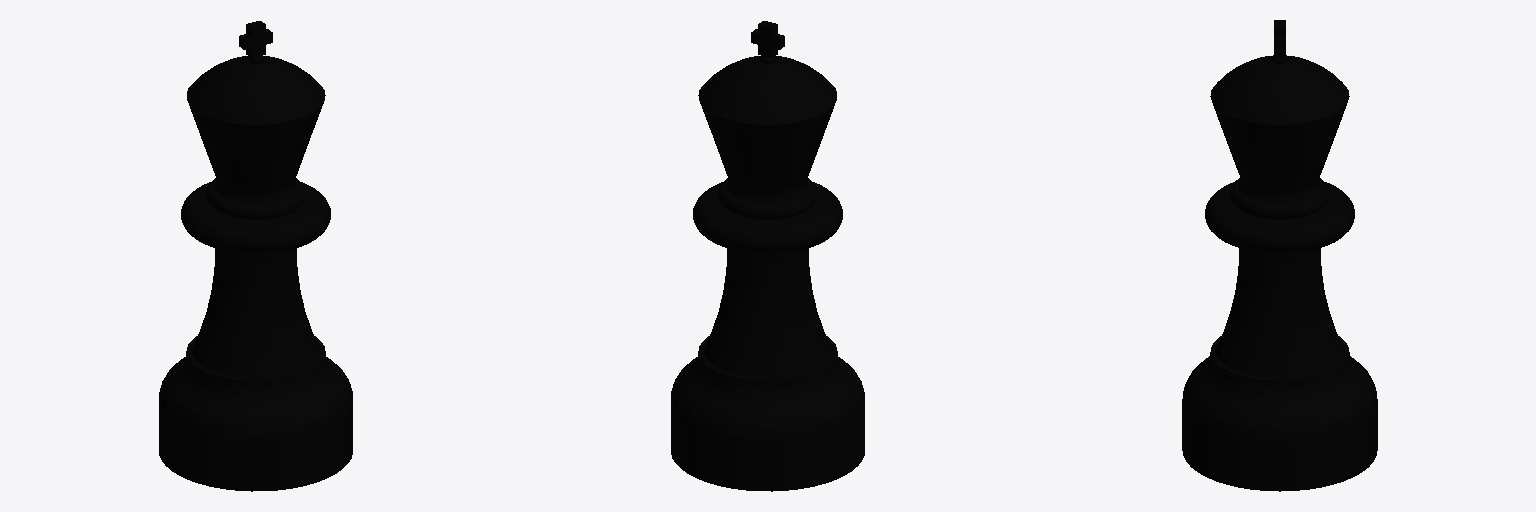
The robot description file, URDF, robot "king":
<?xml version="1.0" ?>
<robot name="king">
    
  <link name="king__link_0">
    <inertial>
      <mass value="0.002"/>
      <origin rpy="0  0  0" xyz="0  0  0"/>
      <inertia ixx="0.145833" ixy="0" ixz="0" iyy="0.145833" iyz="0" izz="0.125"/>
    </inertial>
    
    <collision name="king__collision">
      <origin rpy="1.570795  0  0" xyz="0  0  0"/>
      <geometry>
        <mesh filename="package://chessRobot/models/pieces/king/blackKing.dae" scale="0.01 0.01 0.01"/>
      </geometry>
    <mu1 value="1.0"/>
    <mu2 value="1.0"/>
    <kp  value="10000000.0" />
    <kd  value="1.0" />
    <minDepth>0.002</minDepth>
    <maxVel>0</maxVel>  
    <dynamics damping="0.7" friction="1000" />
    </collision>
    
    <visual name="king__visual">
      <origin rpy="1.570795  0  0" xyz="0  0  0"/>
      <geometry>
        <mesh filename="package://chessRobot/models/pieces/king/blackKing.dae" scale="0.01 0.01 0.01"/>
      </geometry>
    </visual>
  </link>
</robot> 

--- Render facts (derived) ---
3 views of the same robot in one strip: view 1: azimuth 30°, elevation 25°; view 2: azimuth 150°, elevation 25°; view 3: azimuth 270°, elevation 25° (orthographic).
Model king with 1 links and 0 joints (none), rooted at king__link_0, posed every joint at zero.
Visible links, largest first — view 1: king__link_0; view 2: king__link_0; view 3: king__link_0.
Boxes of the visible links, x1,y1,x2,y2 form: king__link_0: (159, 21, 352, 491); king__link_0: (671, 21, 864, 491); king__link_0: (1182, 20, 1377, 491).
Size in the robot's own frame: 0.035 by 0.035 by 0.0844 metres.
1 mesh visuals loaded from 1 distinct referenced files (1 Collada DAE).
